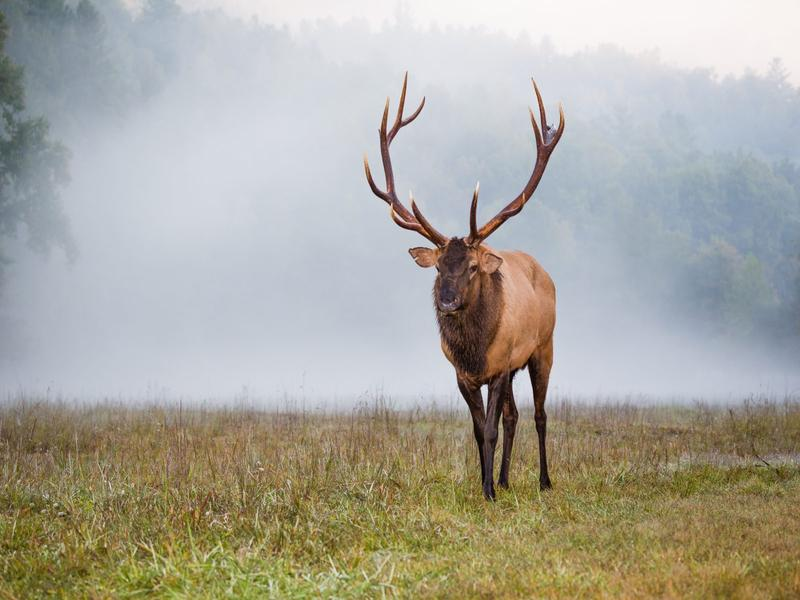elk: (359, 79, 574, 508)
